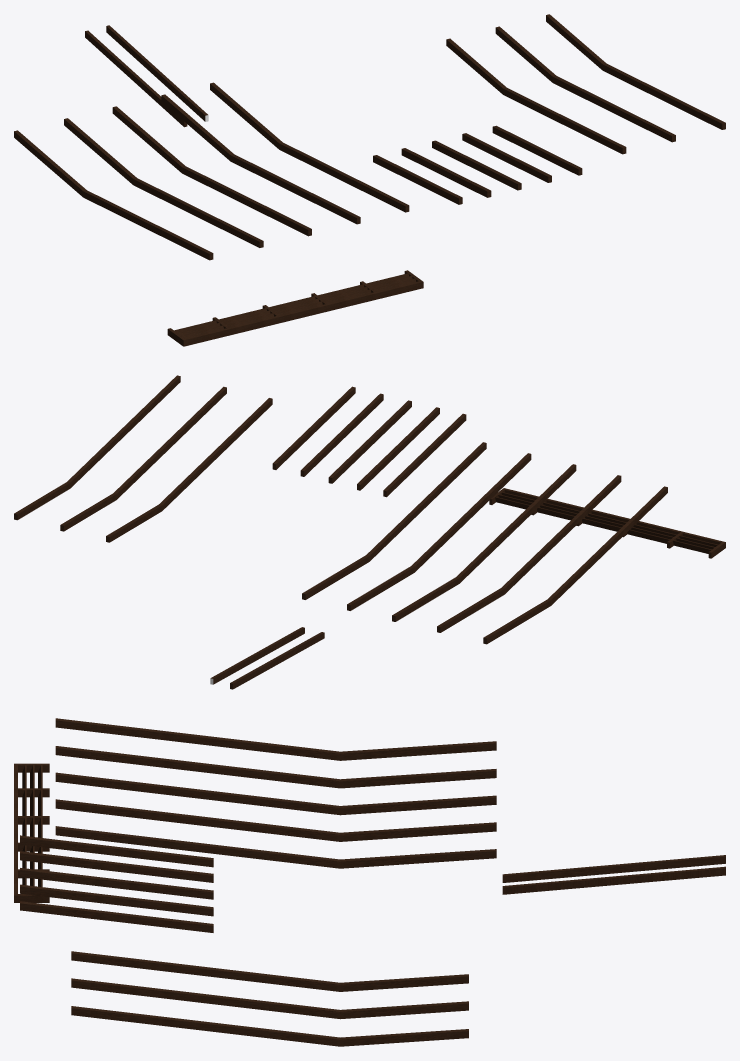
The model's file is estructura cubierta.glb.
The picture shows the model from 3 angles, top to bottom: view 1: azimuth 30°, elevation 25°; view 2: azimuth 150°, elevation 25°; view 3: azimuth 270°, elevation 25°; orthographic projection. The views are drawn at different scales.
Visible parts, largest first — view 1: Grupo#21 (×5), Grupo#22 (×5), Grupo#23 (×2), Grupo#24 (×3), 15284, 15298, Grupo#25; view 2: Grupo#21 (×5), Grupo#22 (×5), Grupo#23 (×2), Grupo#24 (×3), Grupo#25, 15298, 15284; view 3: Grupo#21 (×5), Grupo#22 (×5), Grupo#23 (×2), 15298, Grupo#25, 15284.
Boxes of the visible parts, <box> form: Grupo#21 (×5): <box>14,82,409,260</box>; Grupo#22 (×5): <box>373,125,582,204</box>; Grupo#23 (×2): <box>495,14,725,142</box>; Grupo#24 (×3): <box>174,273,415,338</box>; 15284: <box>167,270,423,346</box>; 15298: <box>85,25,208,127</box>; Grupo#25: <box>446,38,626,154</box>; Grupo#21 (×5): <box>302,442,667,644</box>; Grupo#22 (×5): <box>272,386,466,497</box>; Grupo#23 (×2): <box>14,375,226,531</box>; Grupo#24 (×3): <box>495,492,718,553</box>; Grupo#25: <box>106,398,272,542</box>; 15298: <box>210,627,324,689</box>; 15284: <box>489,488,725,558</box>; Grupo#21 (×5): <box>55,718,496,868</box>; Grupo#22 (×5): <box>20,835,213,932</box>; Grupo#23 (×2): <box>71,978,468,1046</box>; 15298: <box>502,855,725,894</box>; Grupo#25: <box>71,951,468,991</box>; 15284: <box>14,763,49,902</box>.
Size of the model in its own units: 18.69 by 2.47 by 18.
Materials: 152 (149 with a texture image).
